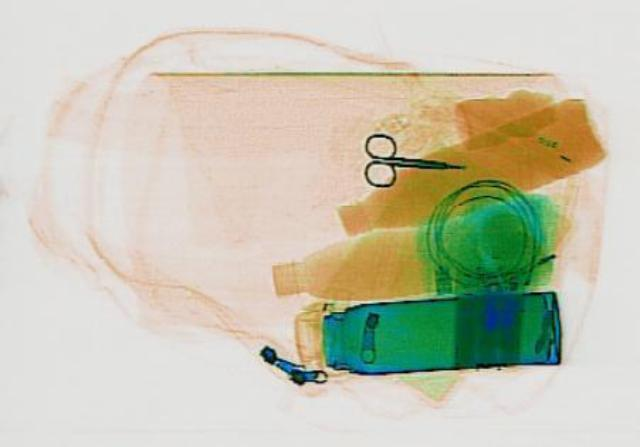Scissors: (354, 130, 470, 191)
